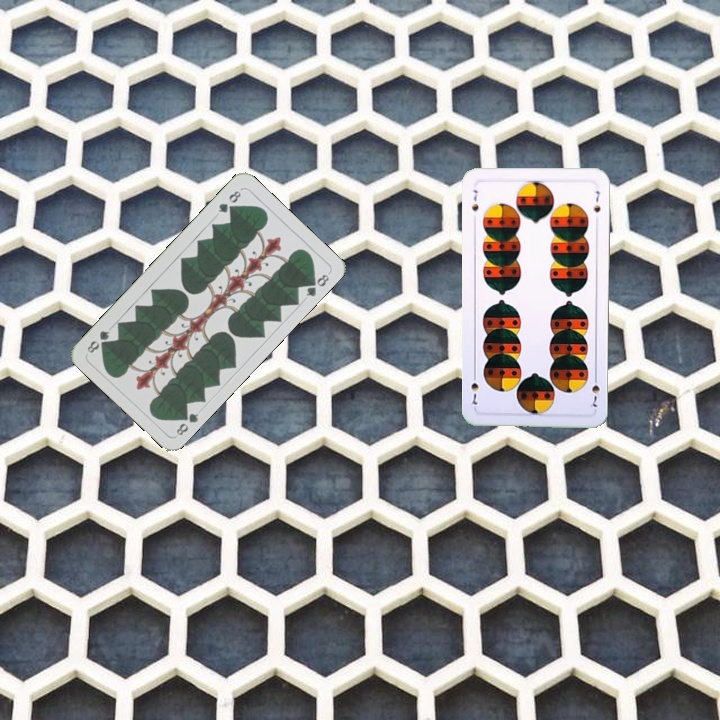G8: (214, 186, 245, 216), (172, 407, 201, 438)
S7: (588, 371, 602, 411), (468, 186, 481, 213)
